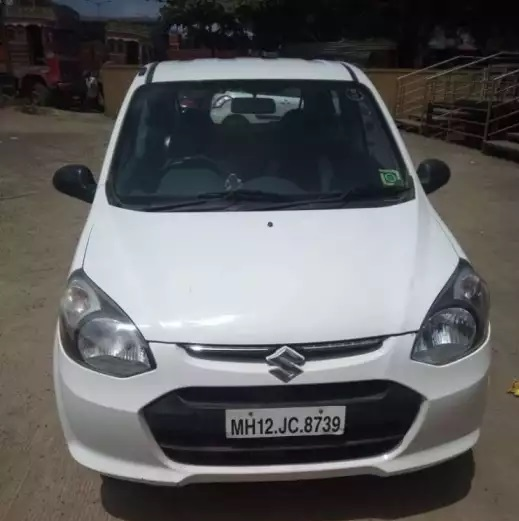licenseplate: (224, 403, 349, 438)
